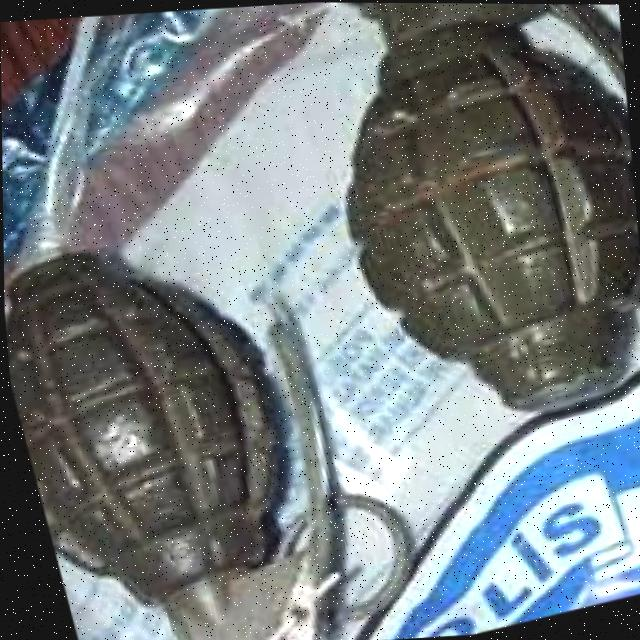grenade: (2, 161, 425, 640), (269, 2, 640, 461)
